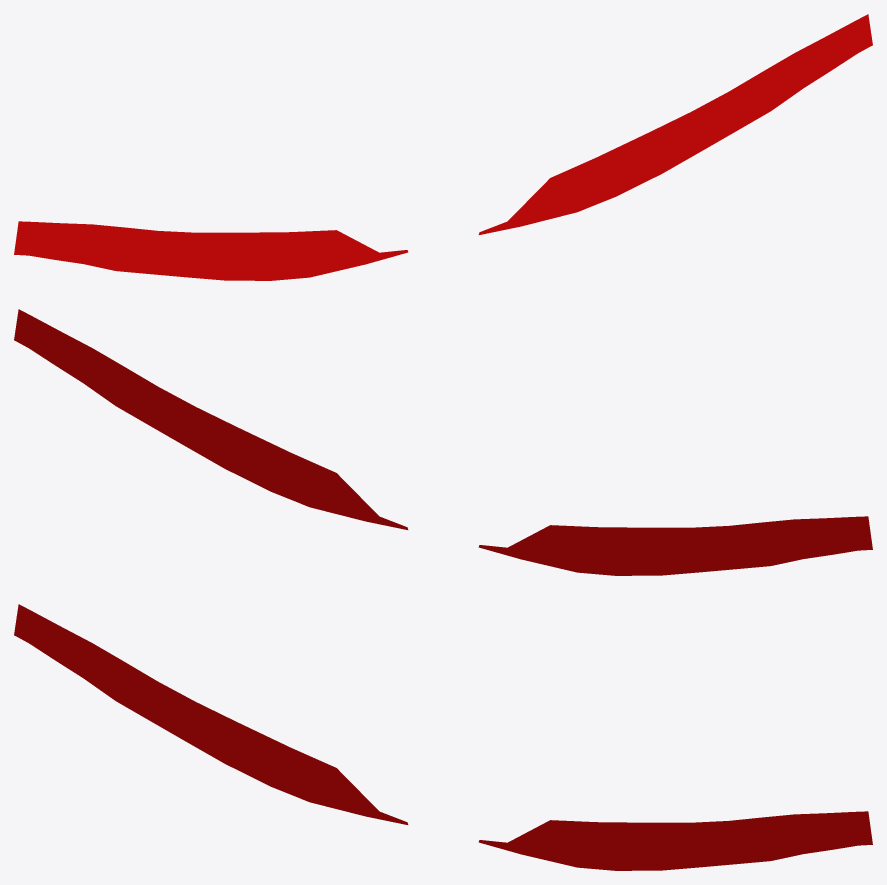
The model's file is frame73.fbx.
3 renders of one model, top to bottom at view 1: azimuth 30°, elevation 25°; view 2: azimuth 150°, elevation 25°; view 3: azimuth 330°, elevation 25°, orthographic.
Visible parts, largest first — view 1: MaterialLayer; view 2: MaterialLayer; view 3: MaterialLayer.
Part boxes in pixels (x1,y1,x2,y2): MaterialLayer: (14,14,872,280); MaterialLayer: (14,309,872,575); MaterialLayer: (14,604,872,870).
Size of the model in its own units: 1287 by 183 by 6.72e-05.
